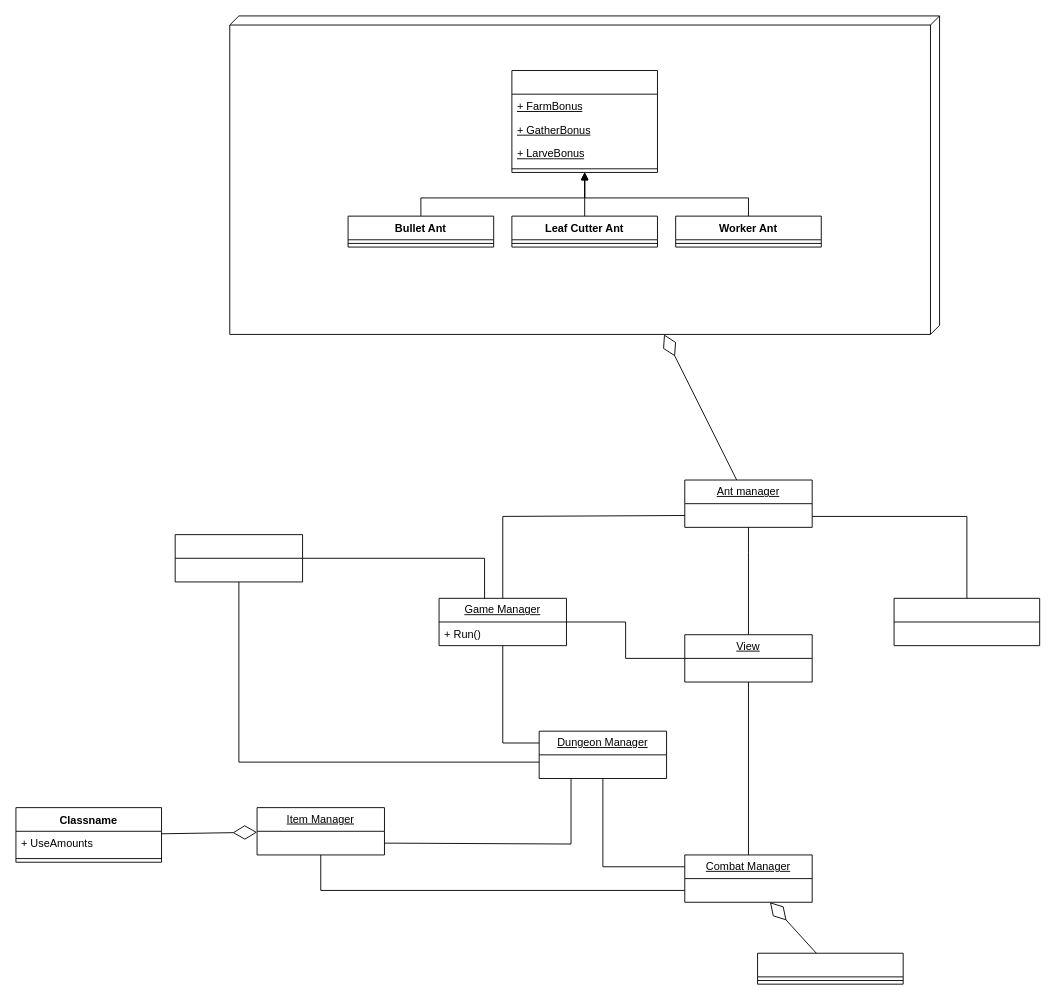
This 1056x1000 diagram has some shape labels left out. Here are the shapes that lost their labels. From the top down, the box of each, then its label:
(511, 70, 657, 172): Ant
(229, 15, 940, 334): Ants
(174, 534, 303, 582): Event Manager
(893, 597, 1040, 646): Resource Manager
(757, 952, 903, 984): Enemies
